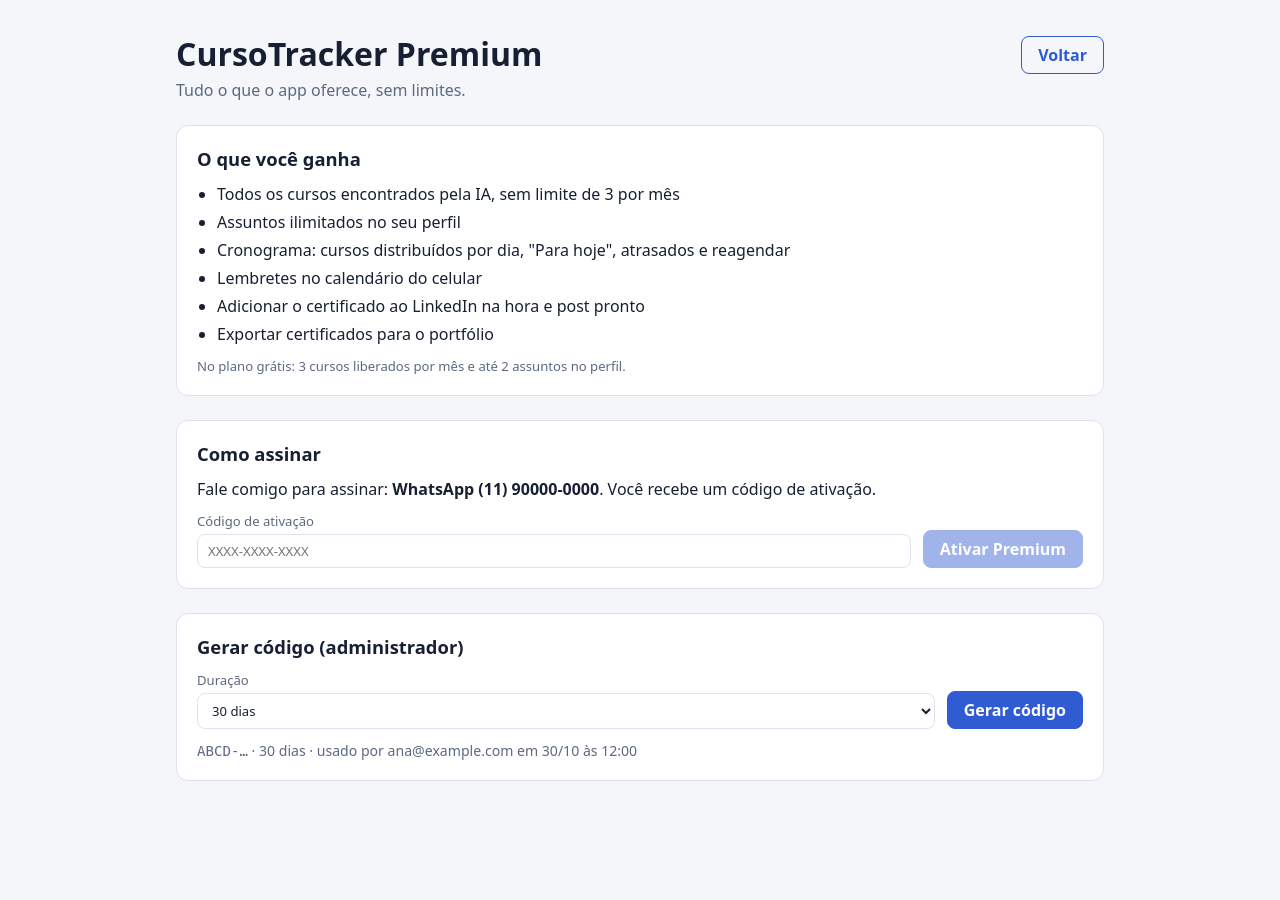
Test case: PremiumPanel › lets the admin generate codes and see who used them
Expected: the list item "usado por ana@example.com" is shown, [317,741,637,760]
Select "Para sempre" in the dropdown labelled "Duração" at (566, 711), box [197,693,935,729]
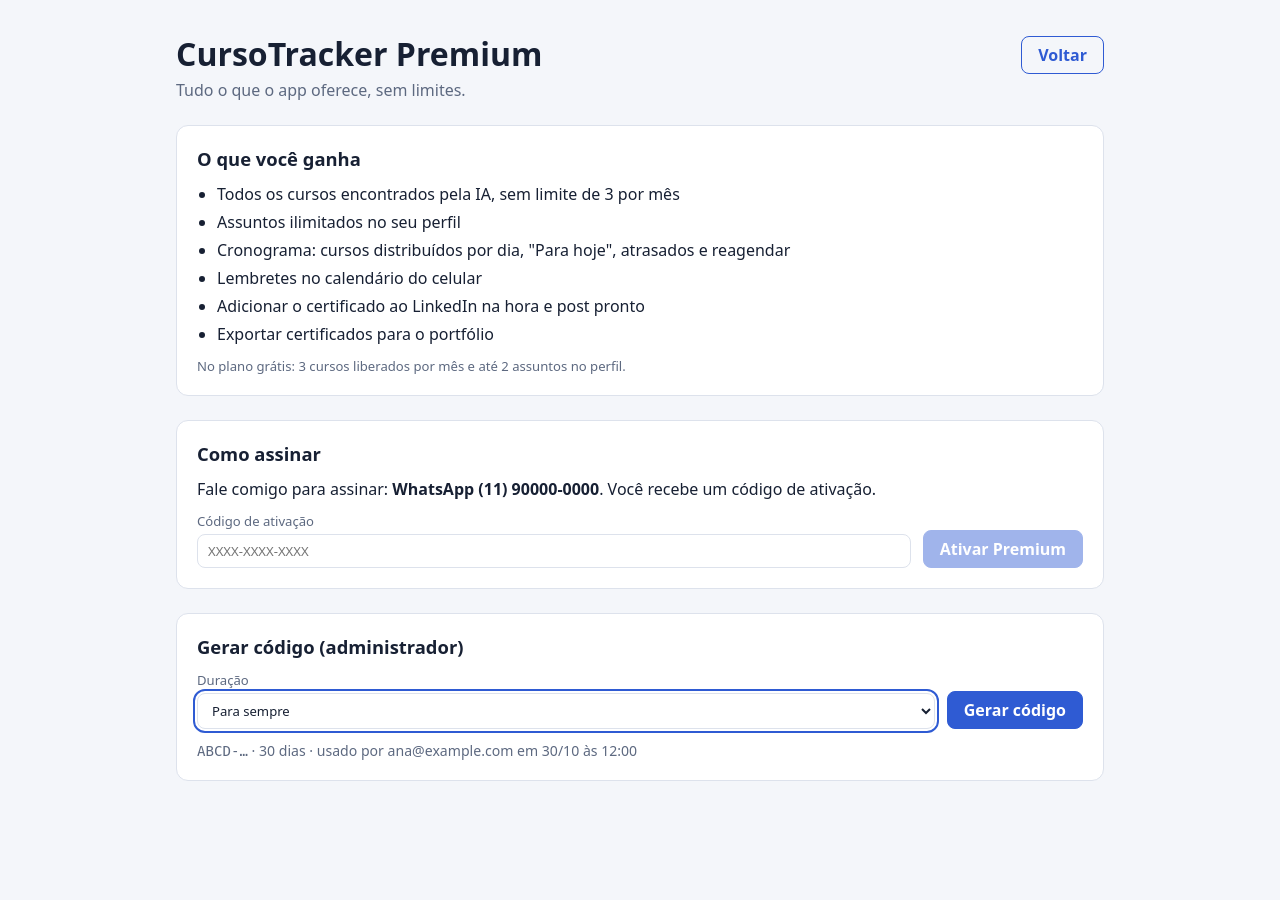
Click the button "Gerar código" at (1015, 710), box [947,691,1083,729]
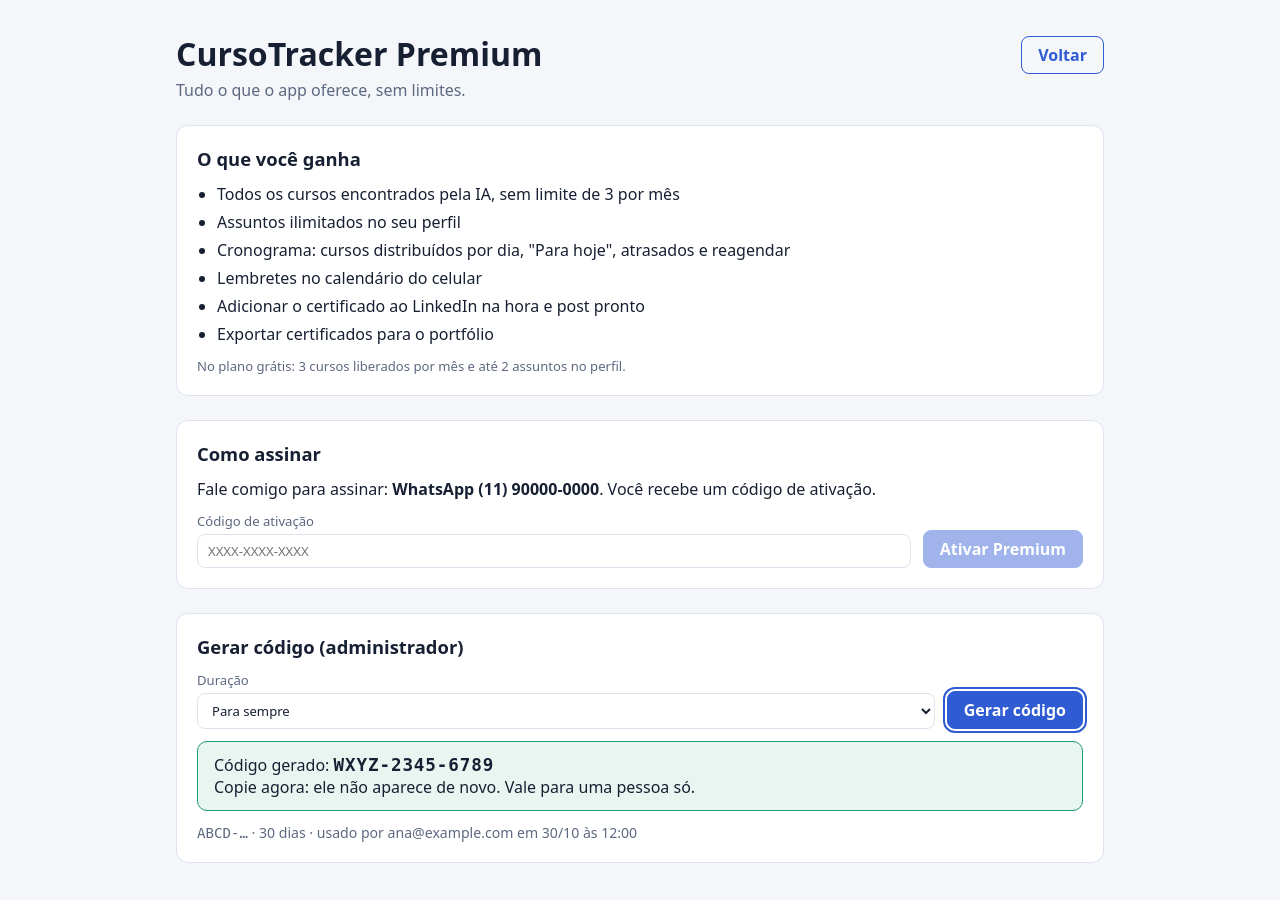
Expected: the text "WXYZ-2345-6789" is shown, [334,755,494,775]
